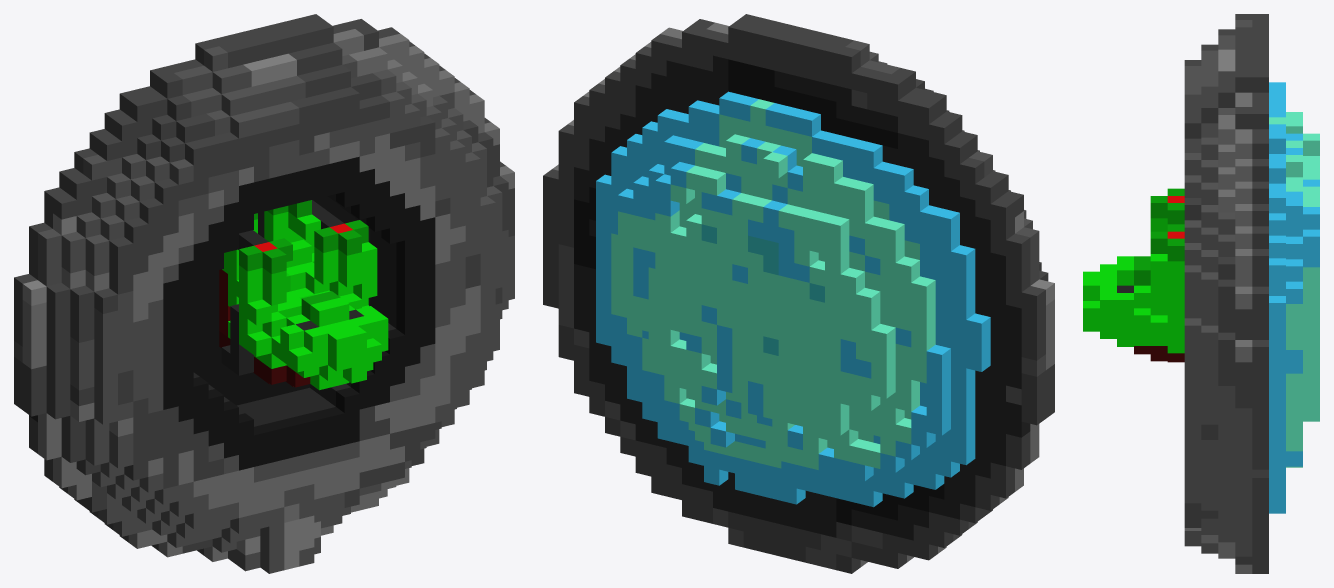
Rendered from Ufo.obj.
3 renders of one model, left to right at view 1: azimuth 30°, elevation 25°; view 2: azimuth 150°, elevation 25°; view 3: azimuth 270°, elevation 25°, orthographic. The views are drawn at different scales.
Size of the model in its own units: 3.2 by 3.2 by 1.4.
1 material, 1 textured.
